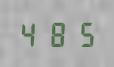eight: (44, 20, 68, 47)
five: (69, 20, 93, 47)
four: (18, 20, 42, 47)
